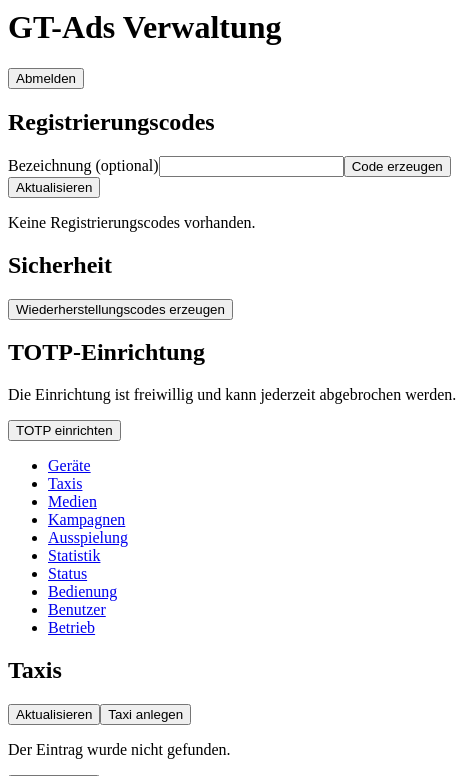
Test: CX-034 Dashboard-Navigation › blendet bei Abmeldung auf einer Unterseite geschützte Inhalte aus und ignoriert verspätete Ladeantworten
Expected: the heading "Taxis" is shown, [8, 657, 62, 683]
Click the link "Geräte" at [69, 466], box [48, 457, 91, 474]
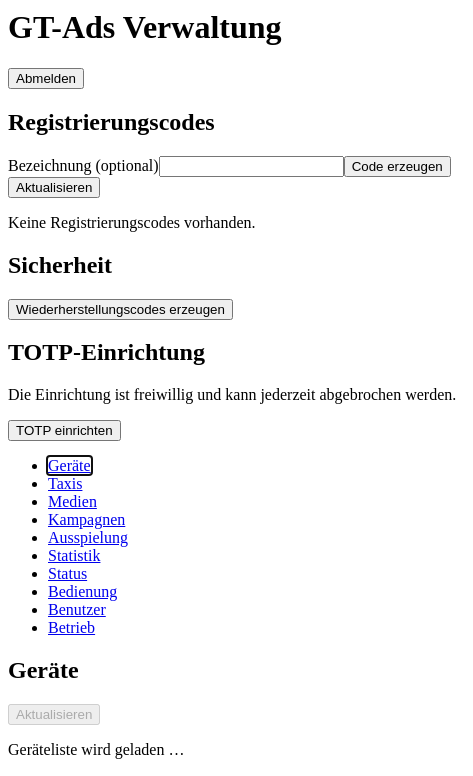
Now the heading "Geräte" is shown, box [8, 657, 79, 683]
Now the text "Geräteliste wird geladen …" is shown, box [8, 741, 184, 758]
Abmeldung, waehrend die Geraeteantwort noch aussteht.
Click the button "Abmelden" at [46, 78], box [8, 68, 84, 89]
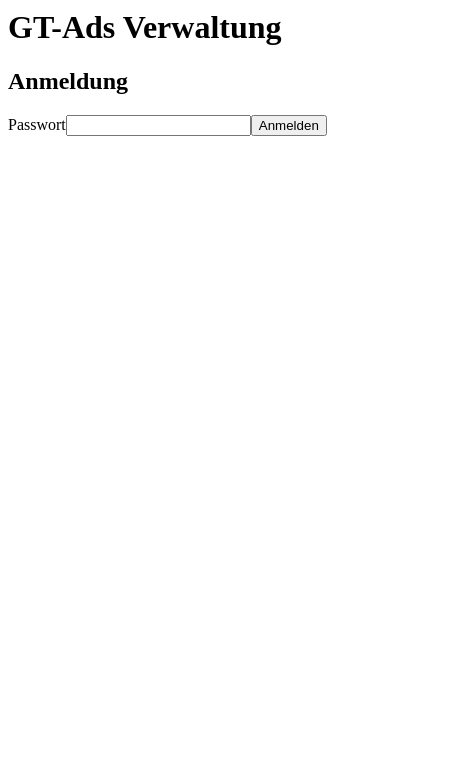
Now the link "Geräte" is gone
Now the navigation bar is gone
Now the heading "Registrierungscodes" is gone
